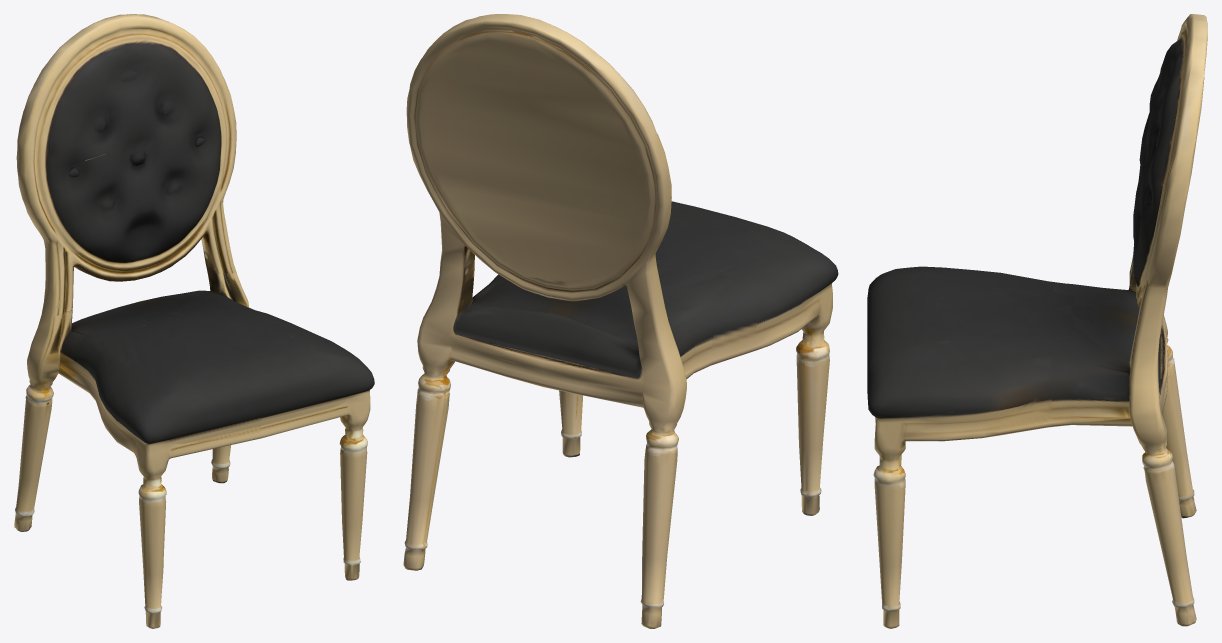
File: louis_xvi_gold_with_b_0125201130_texture.glb
The picture shows the model from 3 angles, left to right: view 1: azimuth 30°, elevation 25°; view 2: azimuth 150°, elevation 25°; view 3: azimuth 270°, elevation 25°; orthographic projection. The views are drawn at different scales.
Visible parts, largest first — view 1: Mesh_0; view 2: Mesh_0; view 3: Mesh_0.
Part boxes in pixels (x1,y1,x2,y2): Mesh_0: (14,14,374,628); Mesh_0: (403,14,838,628); Mesh_0: (867,14,1207,628).
Size of the model in its own units: 0.46 by 0.9144 by 0.5163.
1 material, 1 textured.
